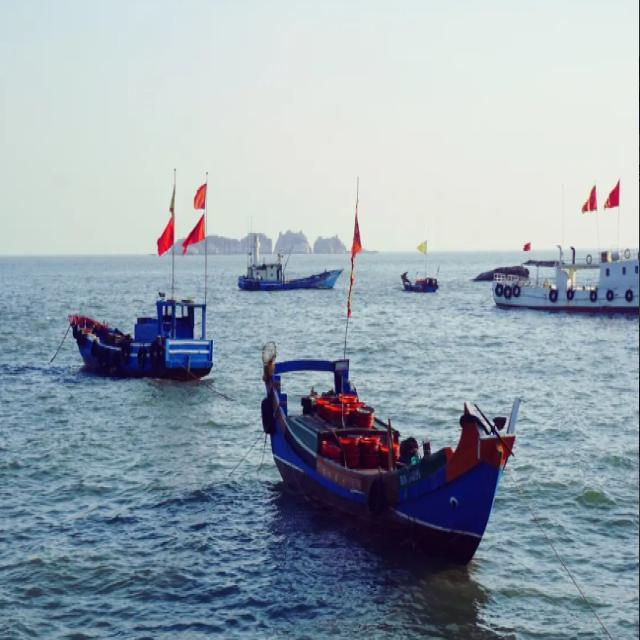fishing boat: (260, 329, 515, 562), (54, 274, 217, 382), (236, 234, 337, 286), (400, 262, 440, 288)
houseboat: (491, 242, 640, 313)
